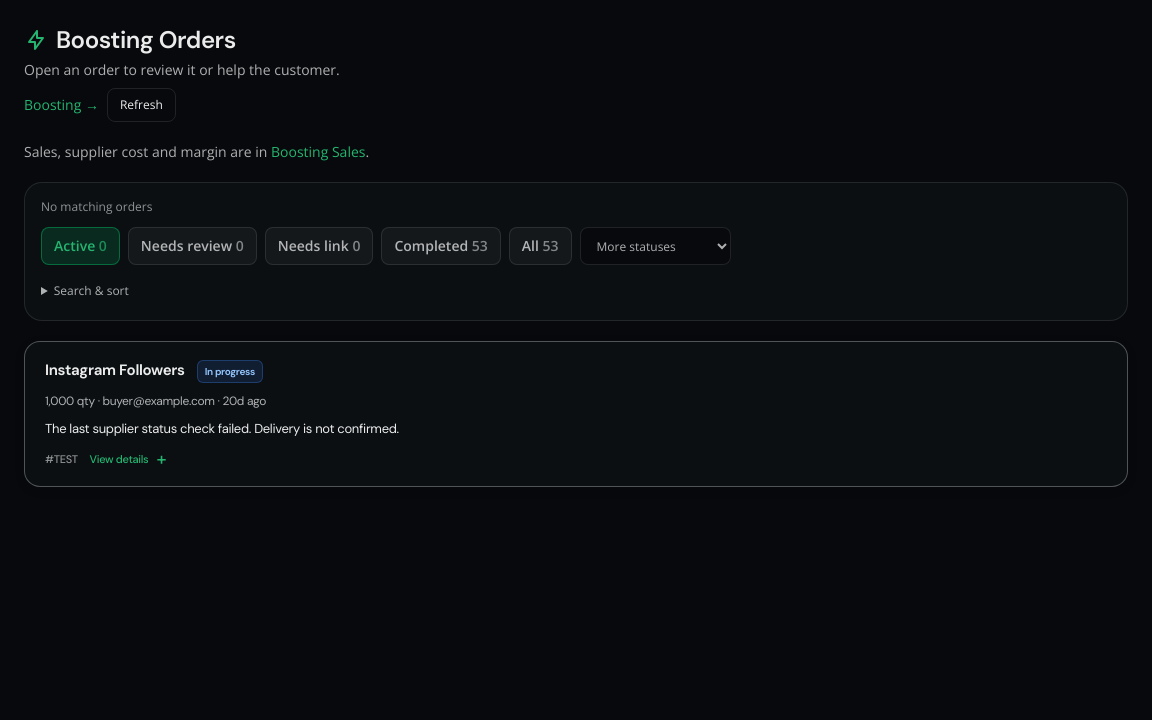
it: shows purchased refill protection and supplier progress without manual completion controls
Click the button with aria-label "Open Instagram Followers · FA-TEST" at x=576, y=414, box [25,342,1127,486]
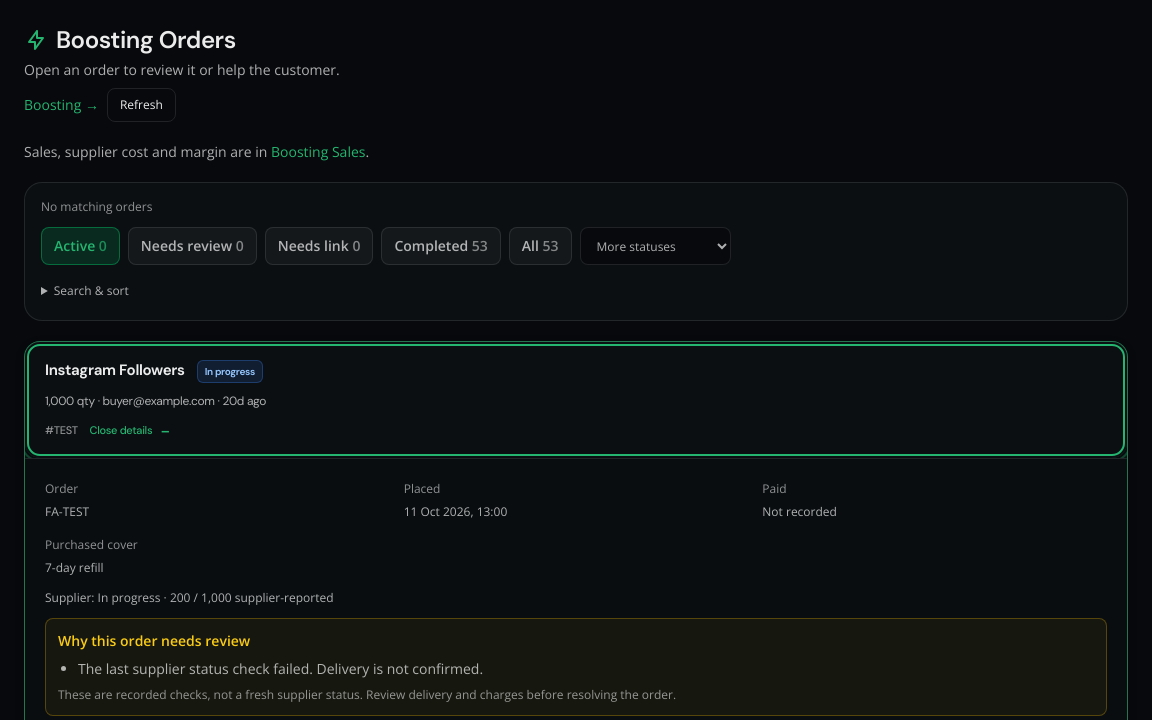
expect the text "7-day refill" is shown: met, box [45,559,104,576]
expect the element "Why this order needs review" shows "The last supplier status check failed. Delivery is not confirmed.": met, box [78,658,483,678]
expect the text "Supplier: In progress · 200 / 1,000 supplier-reported" is shown: met, box [45,588,334,606]
